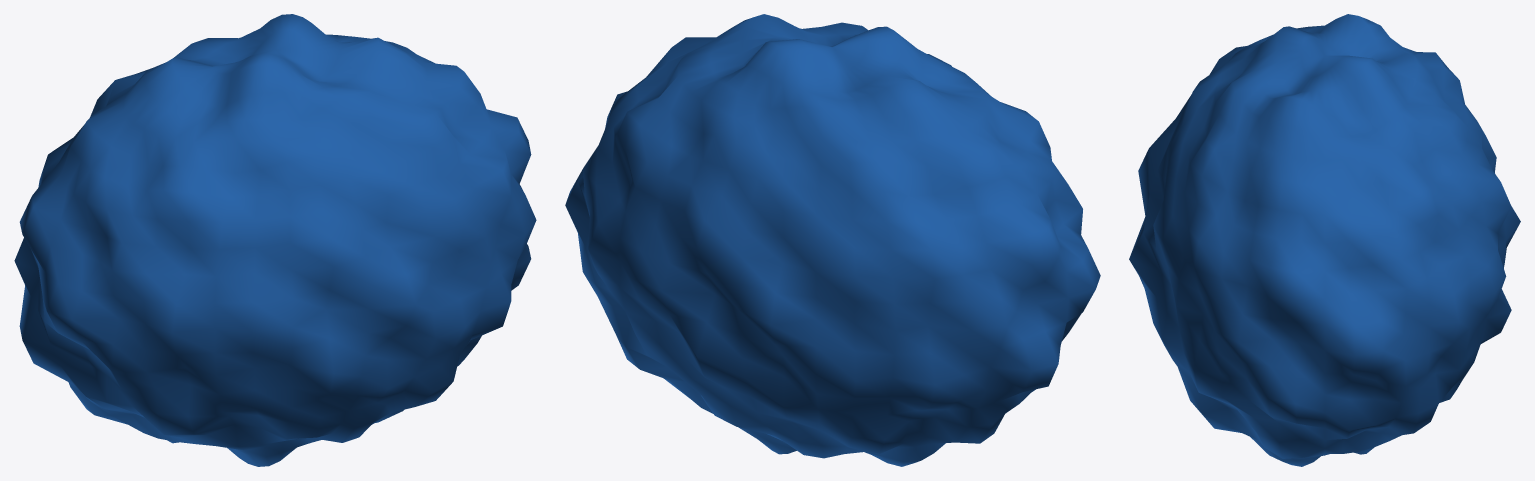
The model's file is cell-sequence.glb.
3 renders of one model, left to right at view 1: azimuth 30°, elevation 25°; view 2: azimuth 150°, elevation 25°; view 3: azimuth 270°, elevation 25°, orthographic. The views are drawn at different scales.
Parts seen in each view (by area): view 1: cell.mesh; view 2: cell.mesh; view 3: cell.mesh.
Boxes of the visible parts, x1,y1,x2,y2 form: cell.mesh: (14, 14, 536, 466); cell.mesh: (565, 14, 1100, 466); cell.mesh: (1129, 14, 1520, 466).
Bounding box in the file's own units: 2.41 × 1.9 × 1.73.
